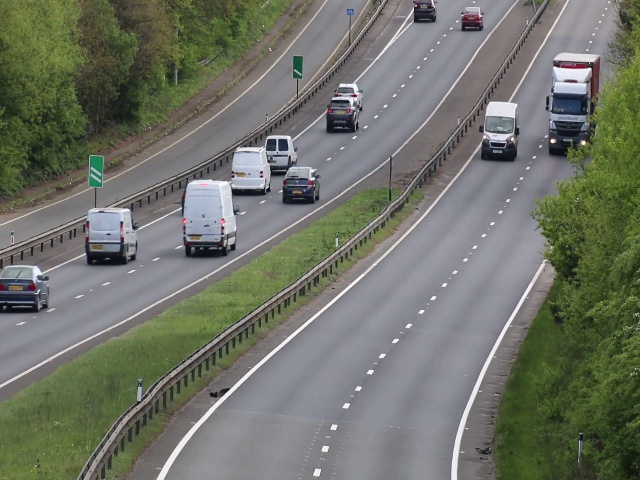car: (545, 51, 596, 158), (183, 182, 239, 256), (86, 207, 139, 265), (1, 263, 50, 312), (482, 101, 518, 160), (231, 148, 273, 194), (282, 167, 322, 202), (265, 133, 298, 173), (326, 100, 360, 132), (461, 7, 483, 32), (335, 84, 364, 99)
